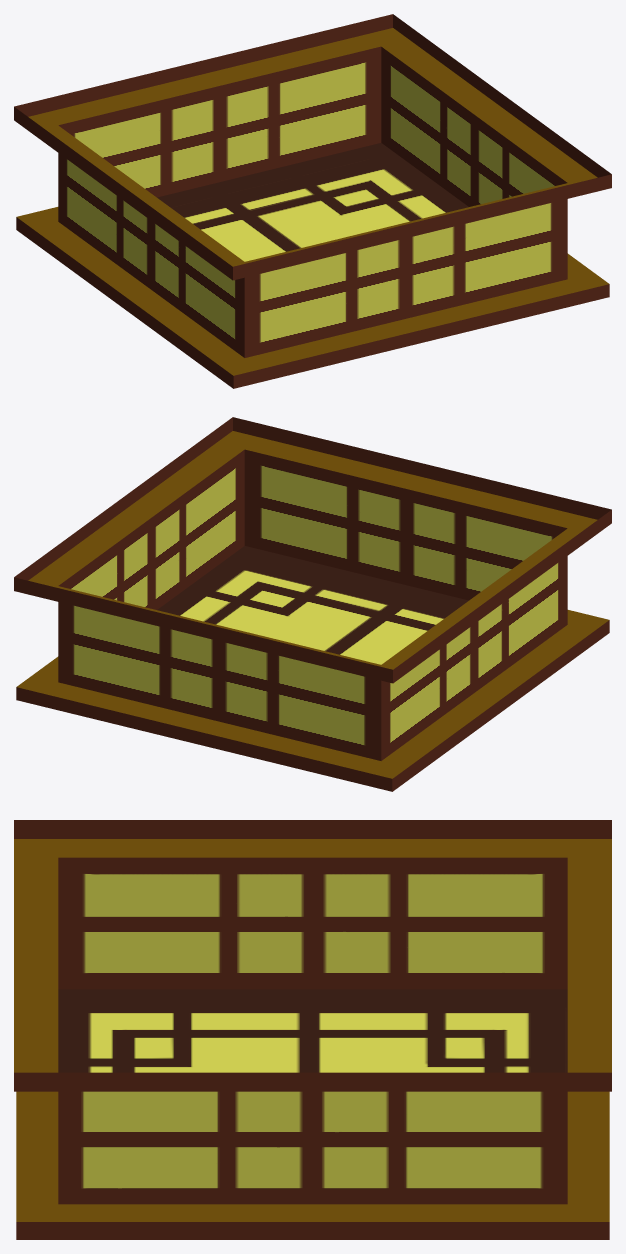
File: Lampe salle de bain.fbx
3 views of the same model, one above another, from view 1: azimuth 30°, elevation 25°; view 2: azimuth 150°, elevation 25°; view 3: azimuth 270°, elevation 25° (orthographic). The views are drawn at different scales.
Parts seen in each view (by area): view 1: Bathroom Lamp; view 2: Bathroom Lamp; view 3: Bathroom Lamp.
Part boxes in pixels (x1,y1,x2,y2): Bathroom Lamp: (14,14,611,388); Bathroom Lamp: (14,417,611,791); Bathroom Lamp: (14,820,611,1239).
Bounding box in the file's own units: 85.89 × 26.65 × 85.89.
